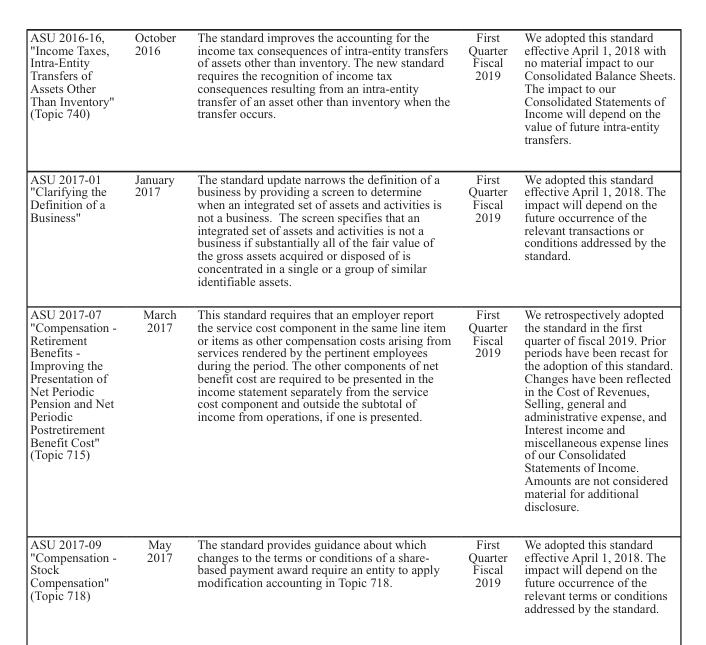table: (29, 29, 674, 614)
table column: (186, 29, 458, 614), (515, 29, 674, 614), (29, 29, 124, 614), (124, 29, 186, 614), (458, 29, 515, 614)
table column header: (29, 29, 674, 158)
table row: (29, 297, 674, 524), (29, 158, 674, 297), (29, 29, 674, 158), (29, 524, 674, 614)
